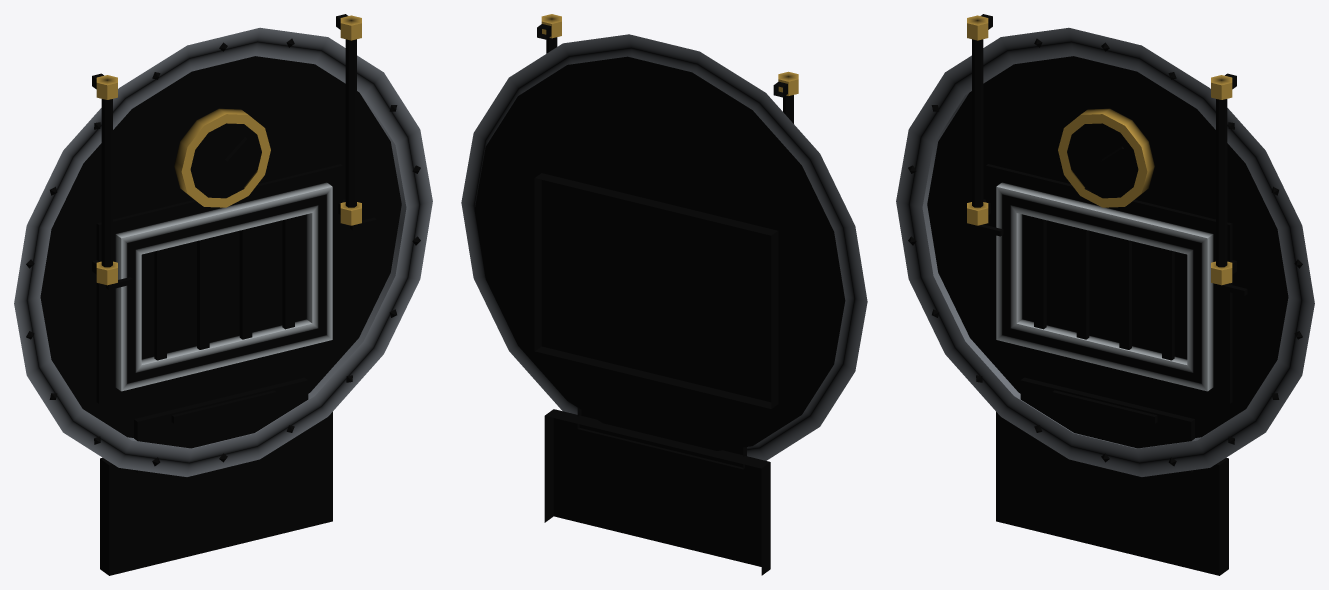
File: boiler_50.glb
The picture shows the model from 3 angles, left to right: view 1: azimuth 30°, elevation 25°; view 2: azimuth 150°, elevation 25°; view 3: azimuth 330°, elevation 25°; orthographic projection. The views are drawn at different scales.
Visible parts, largest first — view 1: ring, plate, furnace_dark, furnace_steel, brass, glass, dial; view 2: plate, ring, furnace_dark, brass; view 3: ring, plate, furnace_dark, furnace_steel, brass, glass, dial.
Boxes of the visible parts, x1,y1,x2,y2 form: ring: (14,27,432,575); plate: (40,56,401,437); furnace_dark: (96,137,342,472); furnace_steel: (115,182,332,423); brass: (92,14,377,289); glass: (101,39,356,267); dial: (190,123,260,197); plate: (474,56,845,454); ring: (461,34,867,575); furnace_dark: (534,173,778,469); brass: (537,14,798,97); ring: (896,27,1314,575); plate: (927,56,1288,437); furnace_dark: (986,146,1232,472); furnace_steel: (996,182,1213,423); brass: (967,14,1247,295); glass: (972,39,1227,267); dial: (1068,123,1138,197).
Size of the model in its own units: 1.03 by 1.21 by 0.0975.
